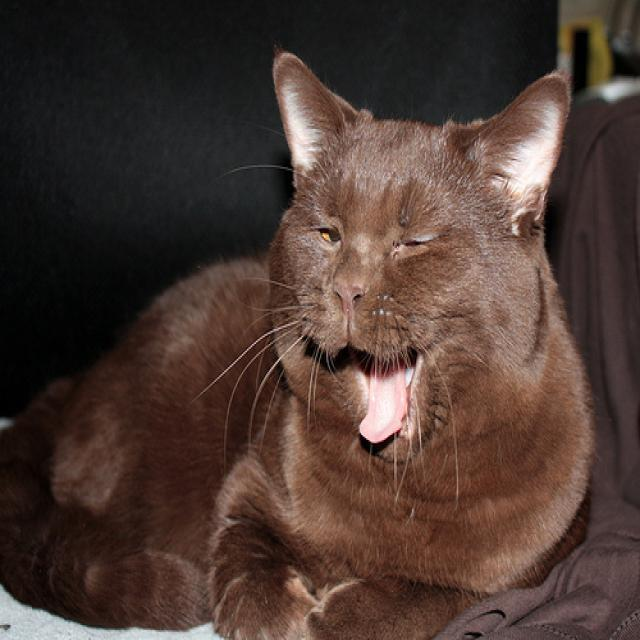British_Shorthair: (267, 53, 575, 475)
